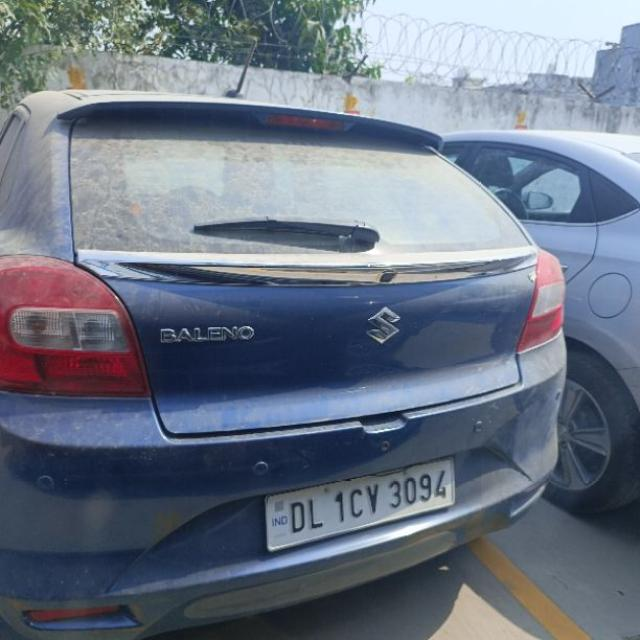license_plate: (262, 455, 455, 552)
